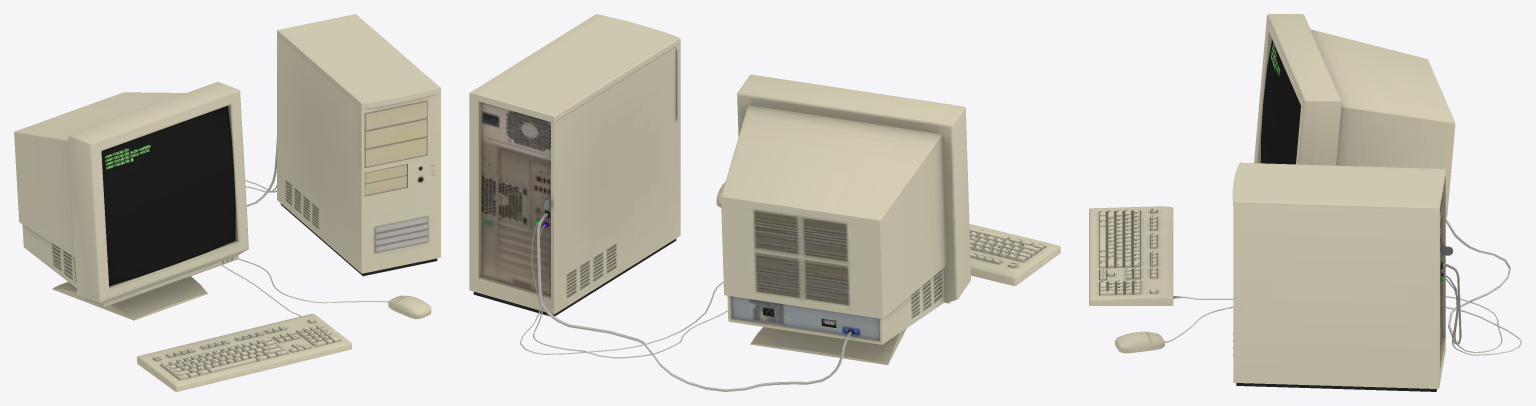
The model's file is com-transformed.glb.
3 renders of one model, left to right at view 1: azimuth 30°, elevation 25°; view 2: azimuth 150°, elevation 25°; view 3: azimuth 270°, elevation 25°, orthographic. The views are drawn at different scales.
Parts seen in each view (by area): view 1: retro_computer_setup_retro_computer_setup_Mat_0; view 2: retro_computer_setup_retro_computer_setup_Mat_0; view 3: retro_computer_setup_retro_computer_setup_Mat_0.
Part boxes in pixels (x1,y1,x2,y2): retro_computer_setup_retro_computer_setup_Mat_0: [14, 14, 440, 391]; retro_computer_setup_retro_computer_setup_Mat_0: [469, 14, 1060, 391]; retro_computer_setup_retro_computer_setup_Mat_0: [1089, 14, 1521, 391].
Size of the model in its own units: 96.81 by 49.28 by 96.94.
Materials: 1 (1 with a texture image).
